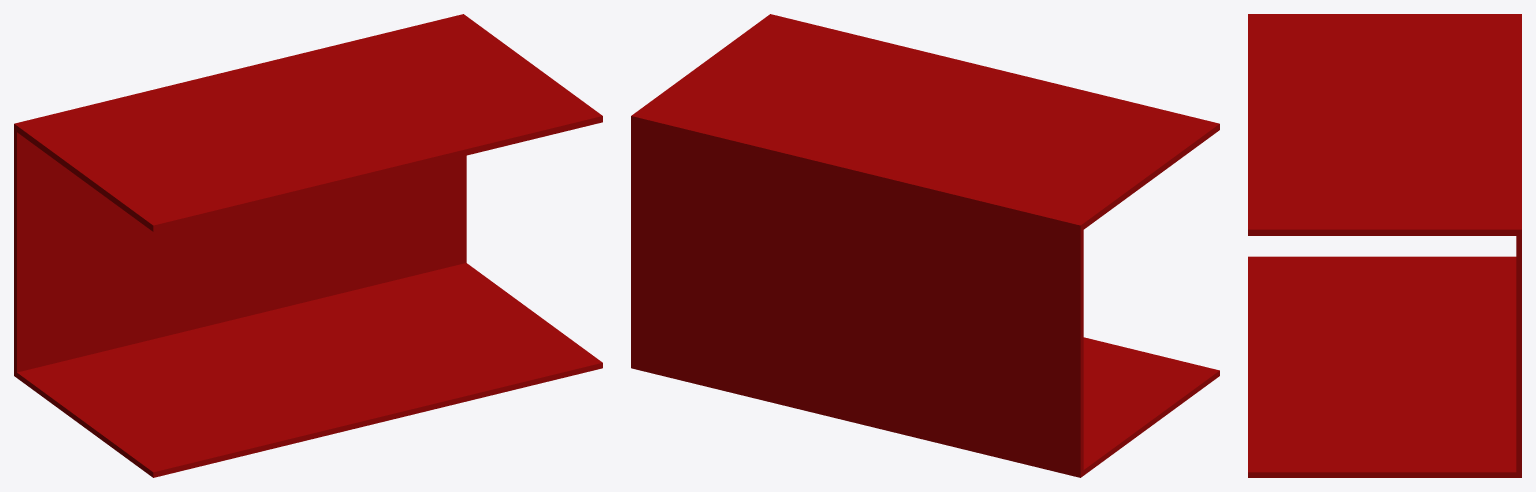
File: Ship_Middle_01.fbx
The picture shows the model from 3 angles, left to right: view 1: azimuth 30°, elevation 25°; view 2: azimuth 150°, elevation 25°; view 3: azimuth 270°, elevation 25°; orthographic projection.
Parts seen in each view (by area): view 1: ShipMiddle; view 2: ShipMiddle; view 3: ShipMiddle.
Boxes of the visible parts, x1,y1,x2,y2 form: ShipMiddle: (14, 14, 602, 477); ShipMiddle: (631, 14, 1219, 477); ShipMiddle: (1248, 14, 1521, 477).
Bounding box in the file's own units: 3018 × 1619 × 1619.
